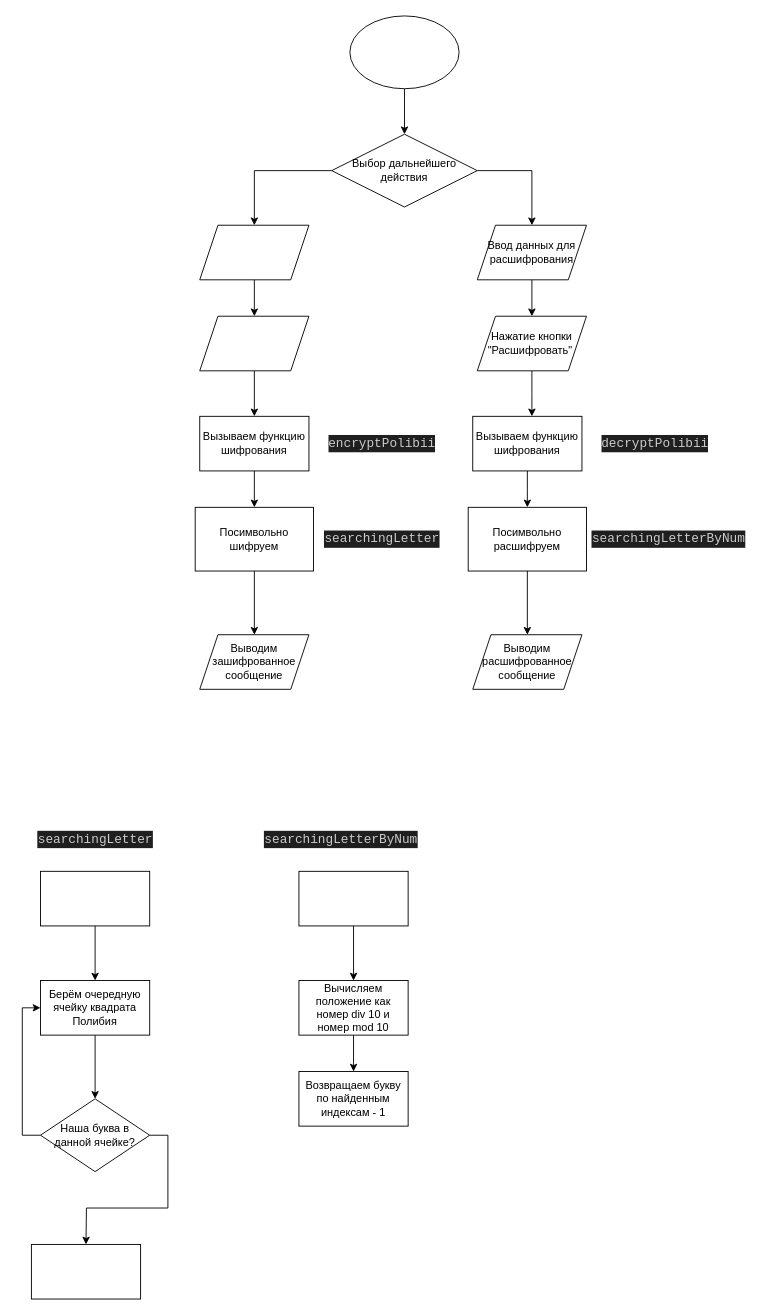
Image size: 766x1315. Some labels were removed from this diagram. Here are the shapes that lost their labels. From the top down, the box of each, then its label:
(349, 15, 459, 89): Начало
(199, 224, 309, 280): Ввод данных для шифрования
(199, 315, 309, 371): Нажатие кнопки "Шифровать"
(40, 870, 150, 926): Вызов функции, передаётся буква
(298, 870, 408, 926): Вызов функции, передаётся номер ячейки
(30, 1244, 141, 1299): Возвращаем номер ячейки
